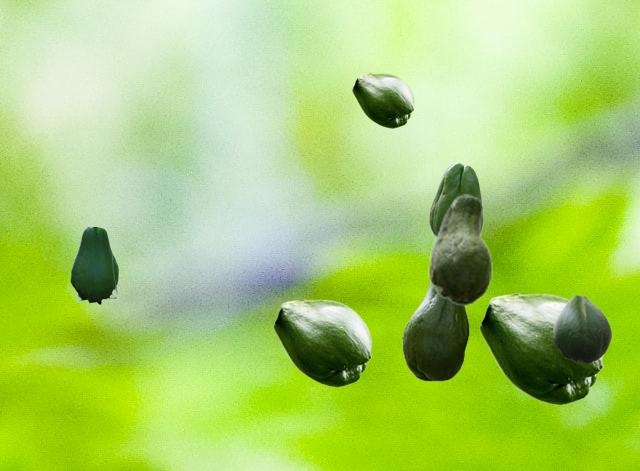sayote: (479, 293, 603, 404), (273, 299, 371, 386), (428, 194, 491, 305), (402, 283, 468, 380), (553, 295, 610, 363), (70, 227, 119, 305), (429, 162, 482, 234), (352, 73, 413, 127)
